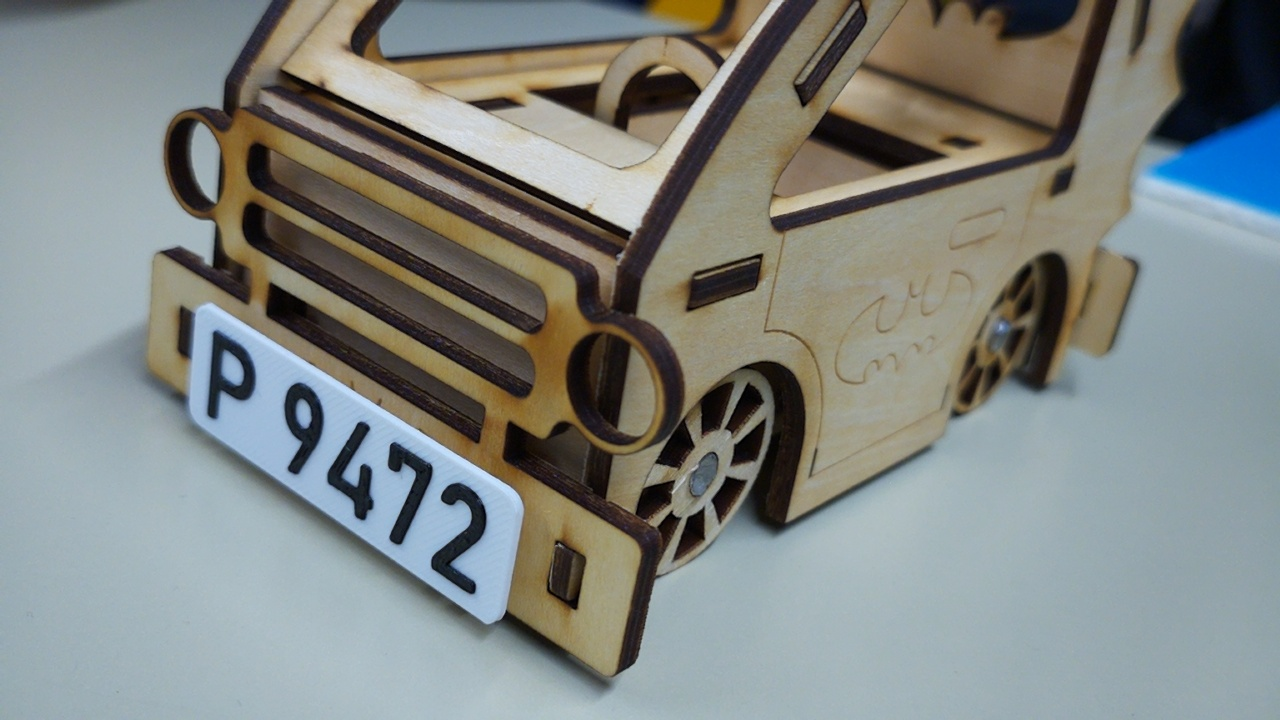license_plate: (187, 300, 525, 628)
